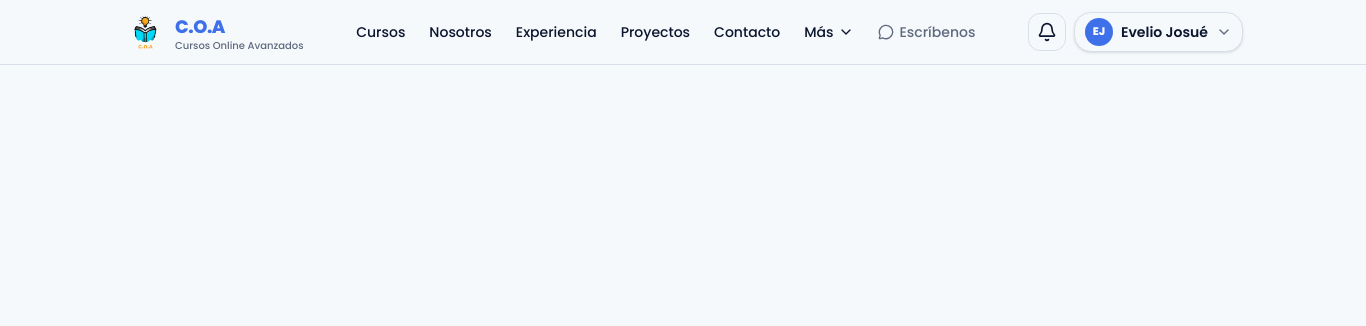
shows the student account and links Mi COA to the student panel
Click the button "EJ Evelio Josué" at [1158, 32], box [1074,12,1243,52]
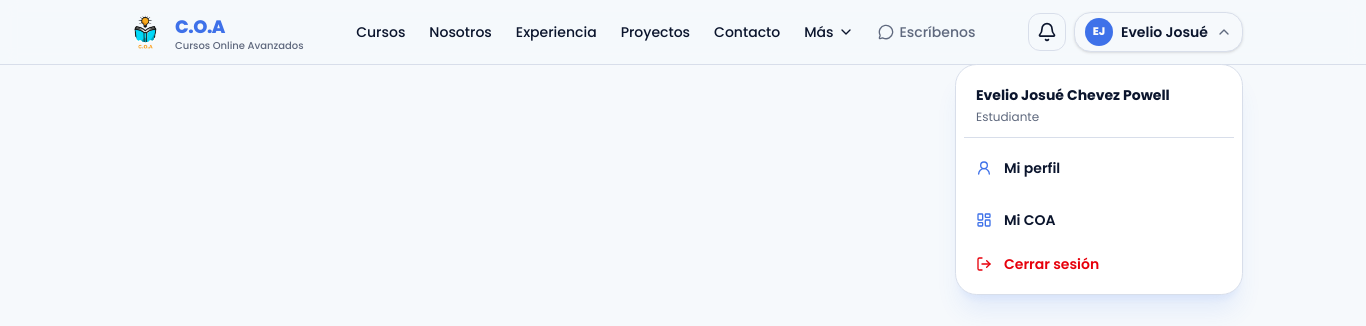
Result: the text "Evelio Josué Chevez Powell" is shown at [976,85,1170,105]
Result: the text "Estudiante" is shown at [976,108,1039,125]
Result: the menu item "Cerrar sesión" is shown at [964,242,1234,286]
